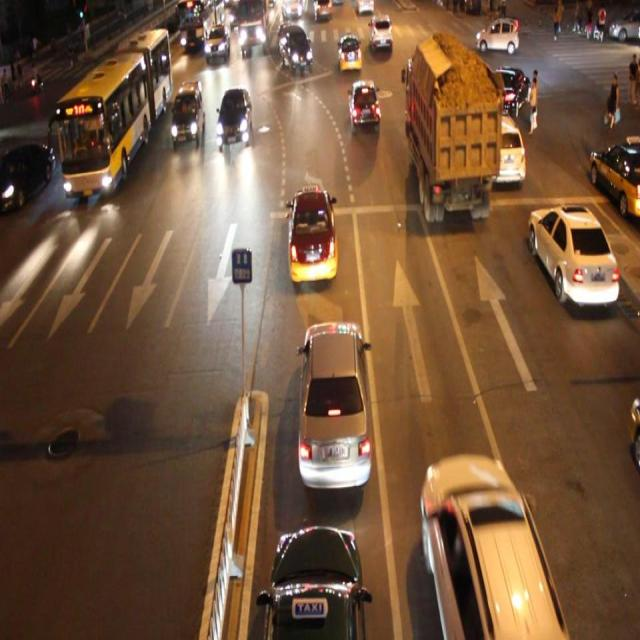bus: (404, 41, 494, 217)
car: (420, 457, 566, 640), (297, 319, 373, 495), (260, 526, 367, 640), (527, 205, 617, 303), (287, 188, 339, 284), (1, 143, 56, 211), (483, 114, 525, 184), (90, 64, 135, 116), (489, 63, 531, 117), (216, 88, 252, 146), (348, 79, 380, 131), (280, 28, 314, 75), (337, 33, 362, 74), (368, 13, 393, 51), (204, 25, 229, 60)
truck: (171, 82, 205, 143)
van: (56, 31, 169, 194)
